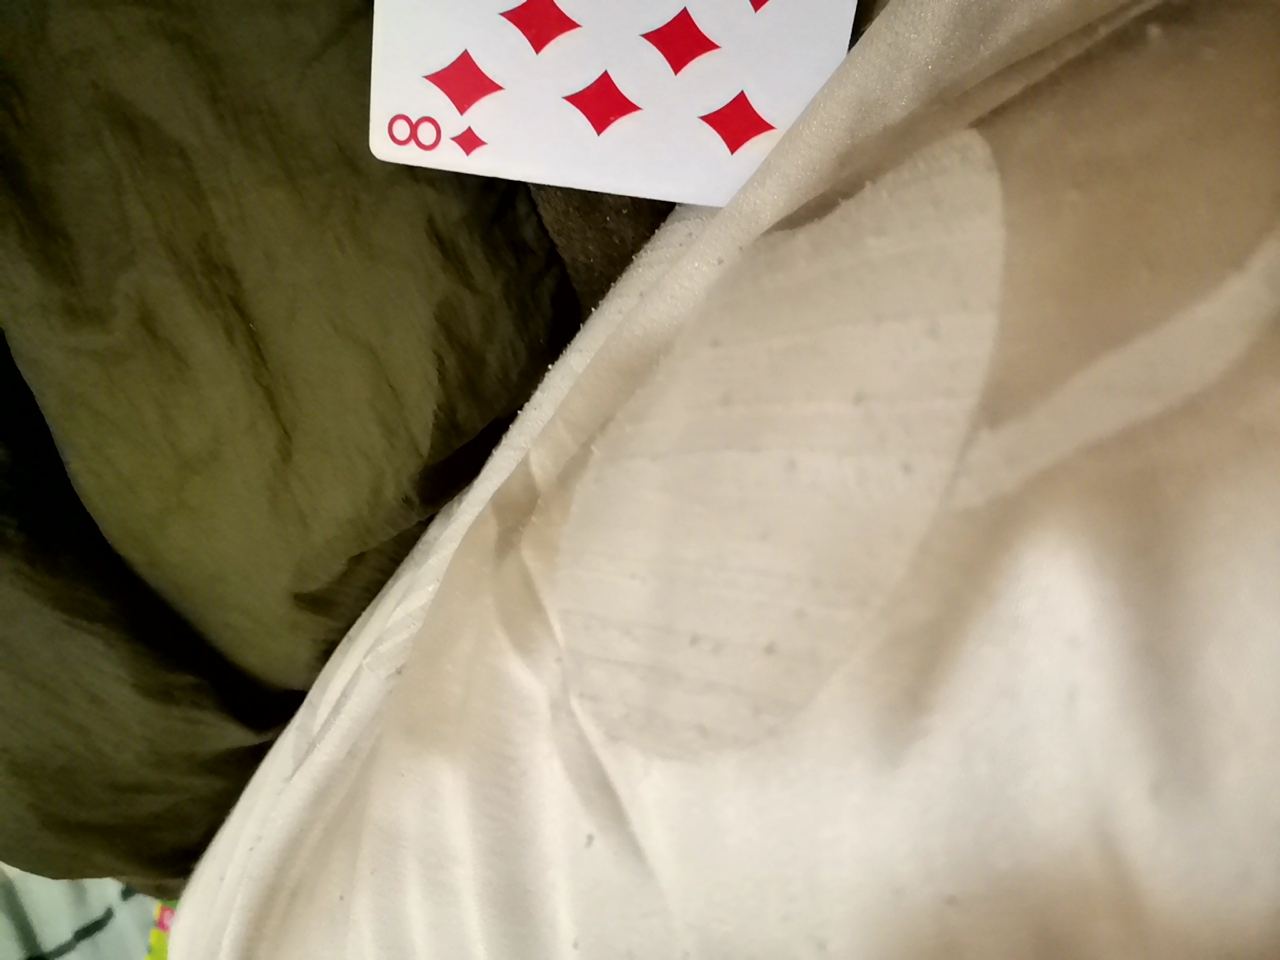fk 8: (329, 0, 864, 222)
